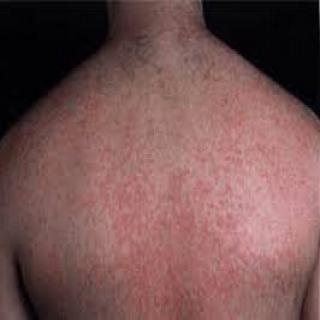urticaria: (96, 133, 234, 312), (12, 138, 84, 247), (246, 100, 300, 186)
